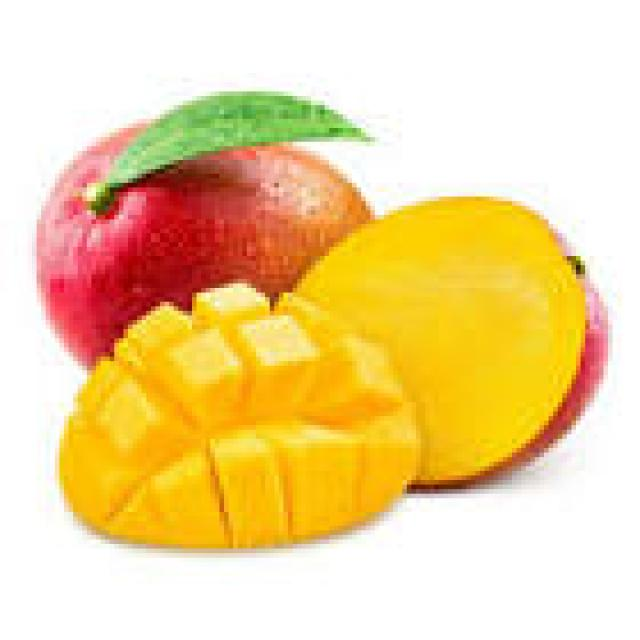mango: (61, 198, 585, 548), (38, 91, 370, 364)
